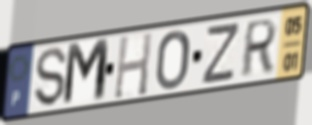H: (112, 30, 155, 102)
M: (60, 36, 112, 110)
O: (154, 28, 192, 92)
R: (238, 16, 280, 80)
S: (33, 46, 69, 109)
Z: (199, 20, 242, 87)
